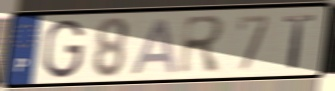7: (234, 13, 270, 74)
8: (92, 15, 130, 80)
A: (128, 16, 180, 76)
G: (41, 18, 87, 81)
R: (177, 13, 228, 76)
T: (282, 12, 318, 71)
